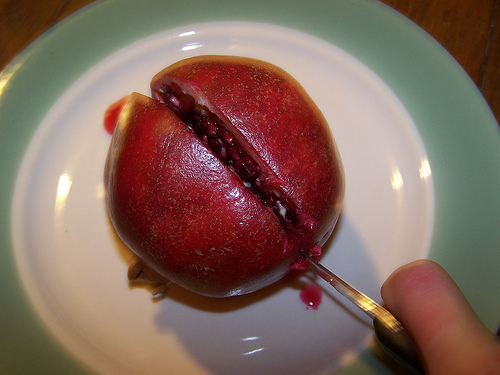pomogranate: (108, 58, 341, 300)
